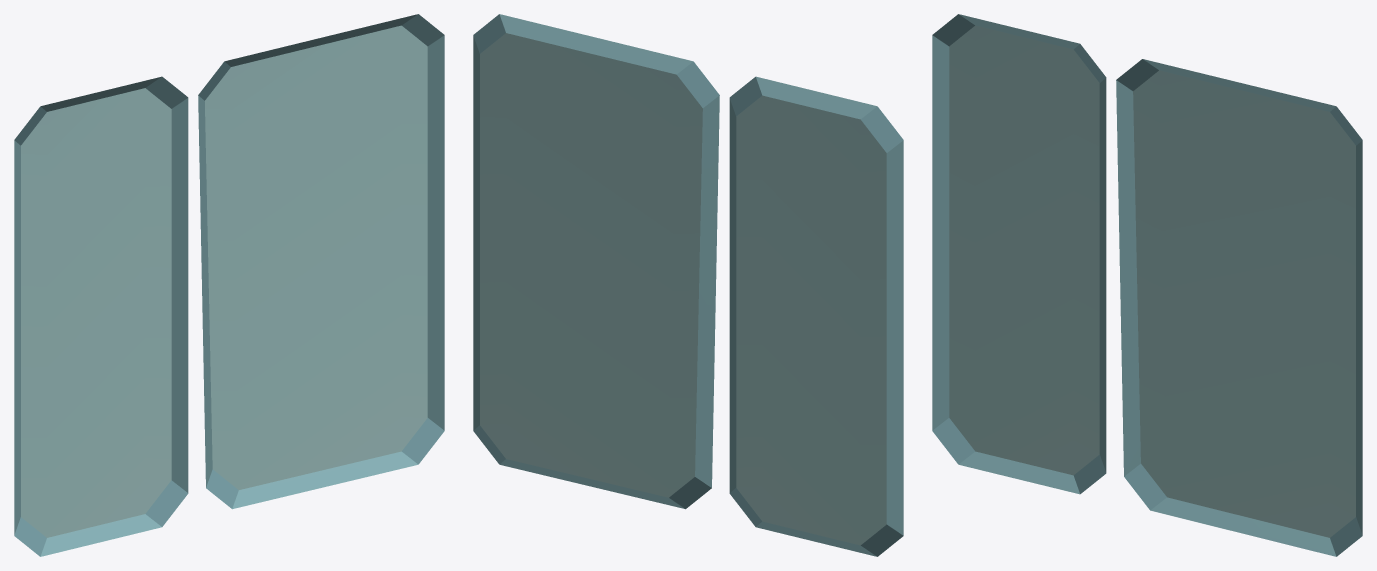
Rendered from Concrete Tile 02.FBX.
The picture shows the model from 3 angles, left to right: view 1: azimuth 30°, elevation 25°; view 2: azimuth 150°, elevation 25°; view 3: azimuth 330°, elevation 25°; orthographic projection.
Visible parts, largest first — view 1: Concrete Tile 02; view 2: Concrete Tile 02; view 3: Concrete Tile 02.
Boxes of the visible parts, left/top/right/bottom form: Concrete Tile 02: left=14, top=14, right=444, bottom=556; Concrete Tile 02: left=473, top=14, right=903, bottom=556; Concrete Tile 02: left=932, top=14, right=1362, bottom=556.
Size of the model in its own units: 149 by 149 by 3.07.
1 material, 1 textured.
